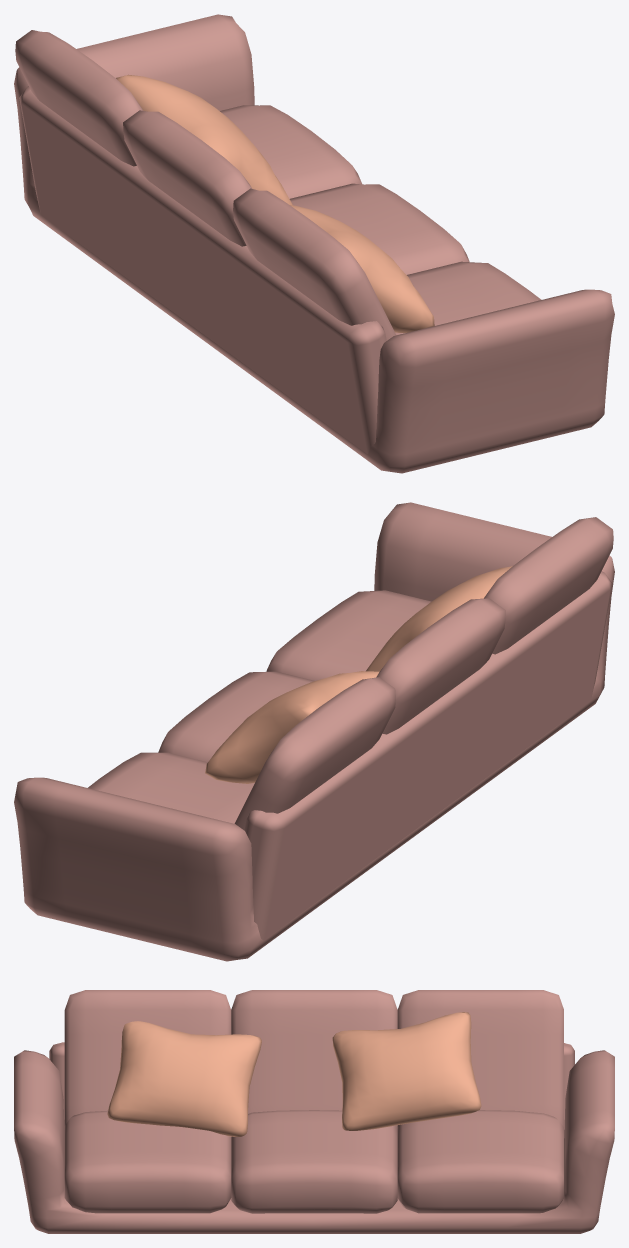
The model's file is sofa-transformed.glb.
3 renders of one model, top to bottom at view 1: azimuth 30°, elevation 25°; view 2: azimuth 150°, elevation 25°; view 3: azimuth 270°, elevation 25°, orthographic. The views are drawn at different scales.
Visible parts, largest first — view 1: Cube 57, Cube 62.002, Cube 63.001, Cube 63.002, Cube 63.003, Cube 59.002, Cube 58.001, Cube 71, Cube 60.003, Cube 72; view 2: Cube 57, Cube 62.002, Cube 63.003, Cube 63.002, Cube 63.001, Cube 60.003, Cube 58.001, Cube 71, Cube 59.002, Cube 72; view 3: Cube 57, Cube 58.001, Cube 59.002, Cube 60.003, Cube 63.002, Cube 71, Cube 72, Cube 63.003, Cube 63.001, Cube 62.002.
Boxes of the visible parts, x1,y1,x2,y2 form: Cube 57: (14, 14, 614, 473); Cube 62.002: (19, 86, 386, 454); Cube 63.001: (233, 188, 395, 340); Cube 63.002: (123, 110, 252, 246); Cube 63.003: (15, 30, 143, 166); Cube 59.002: (289, 183, 469, 274); Cube 58.001: (220, 105, 361, 198); Cube 71: (116, 74, 292, 205); Cube 60.003: (395, 261, 541, 335); Cube 72: (290, 205, 434, 332); Cube 57: (14, 502, 614, 961); Cube 62.002: (244, 571, 612, 940); Cube 63.003: (234, 677, 395, 830); Cube 63.002: (376, 598, 505, 734); Cube 63.001: (484, 517, 613, 654); Cube 60.003: (266, 590, 431, 680); Cube 58.001: (88, 752, 254, 823); Cube 71: (205, 671, 379, 783); Cube 59.002: (158, 671, 314, 762); Cube 72: (366, 566, 512, 671); Cube 57: (14, 1050, 614, 1233); Cube 58.001: (397, 1110, 563, 1213); Cube 59.002: (231, 1110, 397, 1213); Cube 60.003: (64, 1110, 231, 1213); Cube 63.002: (231, 990, 397, 1128); Cube 71: (332, 1012, 481, 1130); Cube 72: (107, 1021, 261, 1136); Cube 63.003: (397, 990, 563, 1126); Cube 63.001: (64, 990, 231, 1125); Cube 62.002: (49, 1042, 574, 1137).
Bounding box in the file's own units: 1.52 × 1.19 × 4.03.
